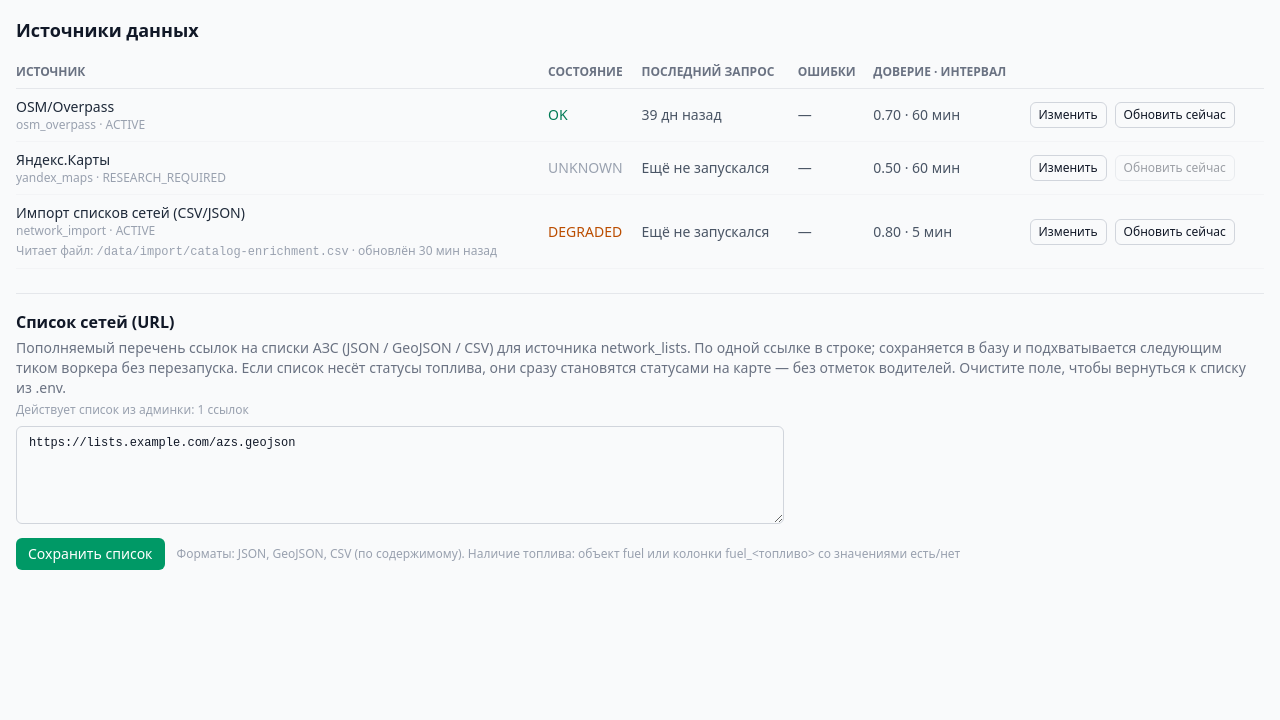
Test: AdminSourcesTable (R58) › некорректный URL отклоняется — ошибка сервера показана, список не тронут
This screenshot has width=1280, height=720.
Check: the heading "Список сетей (URL)" is shown, box [16, 311, 174, 333]
Replace the text in the text box with "not-a-url" at {"x": 400, "y": 475}, box [16, 426, 784, 524]
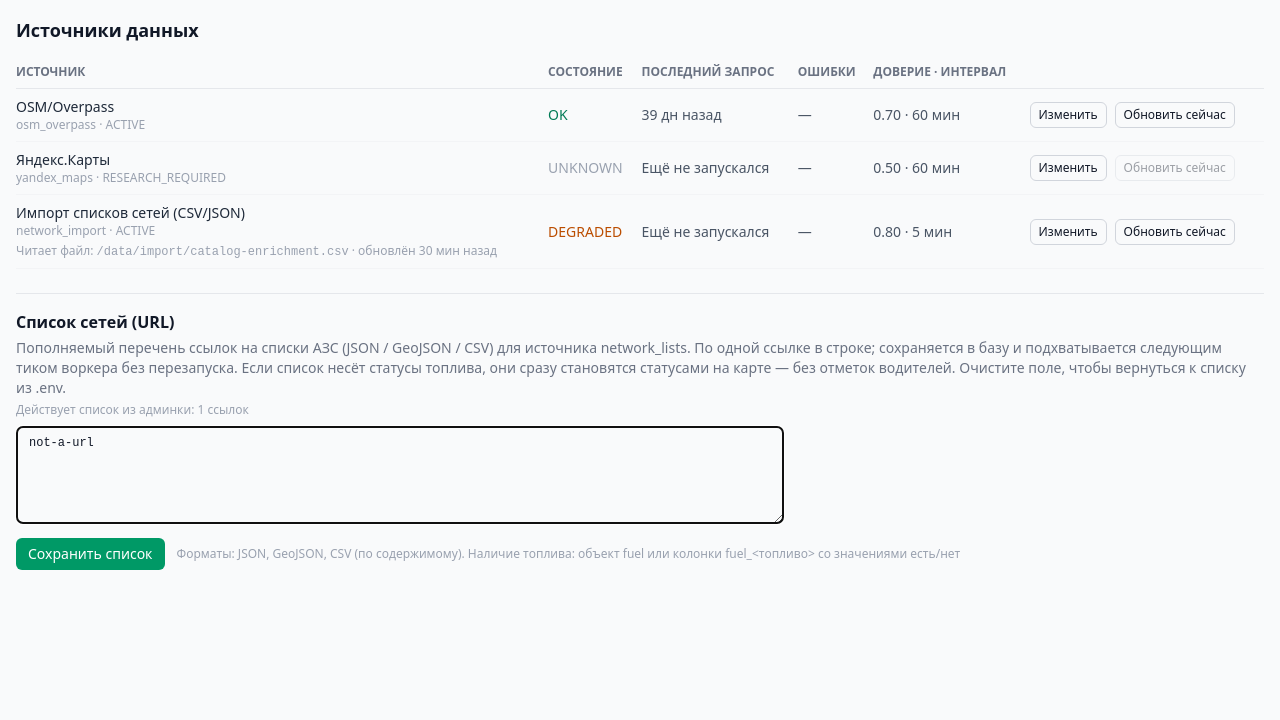
Click the button "Сохранить список" at {"x": 90, "y": 554}, box [16, 538, 164, 570]
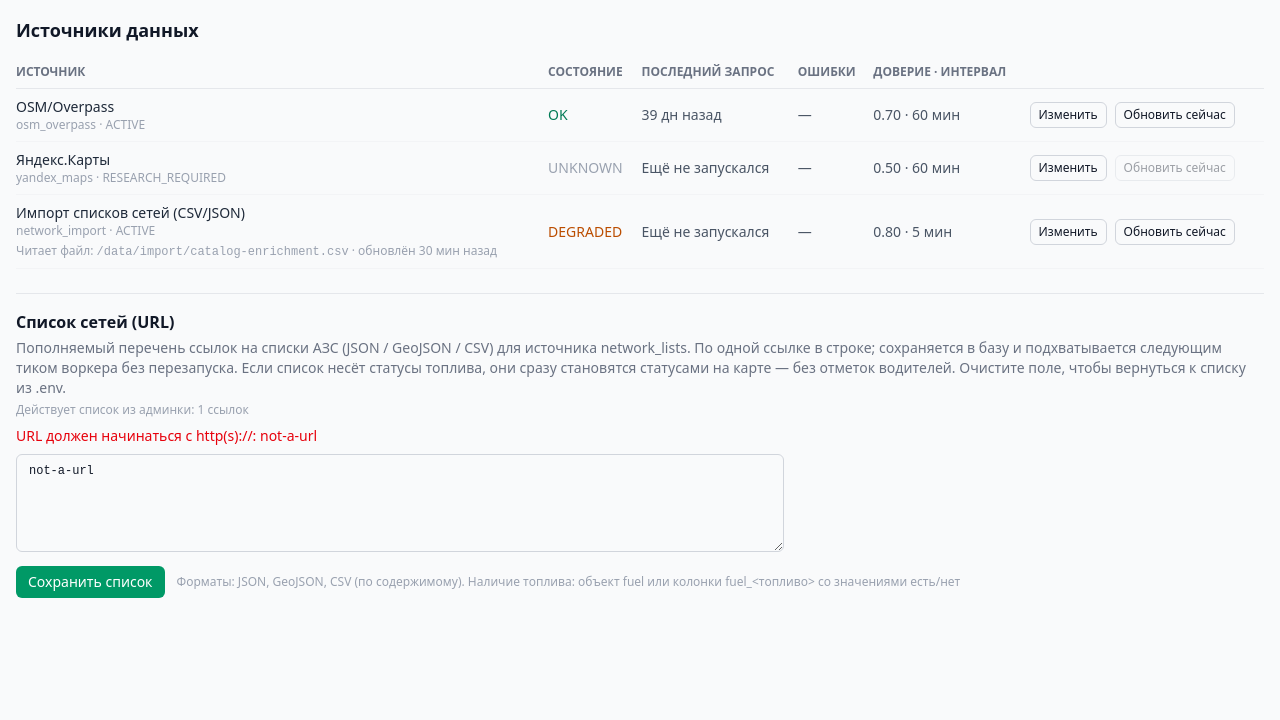
Check: the text "URL должен начинаться с http(s)://: not-a-url" is shown, box [16, 426, 317, 445]
